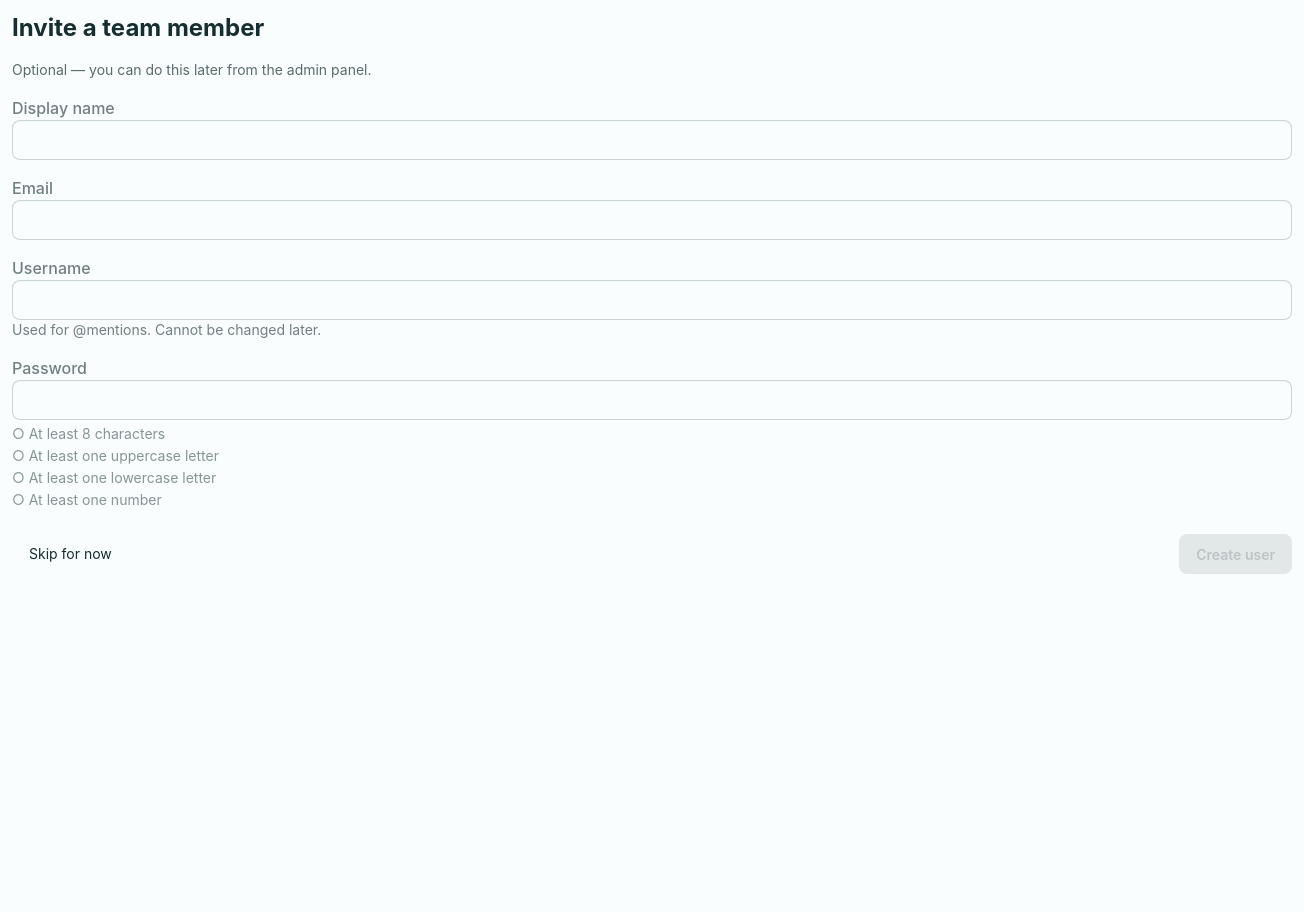
Test: wizard team-member step: username › still reports a duplicate email as before
Type "Demo User" into the field with id "user-name" at (652, 140), box [12,120,1292,160]
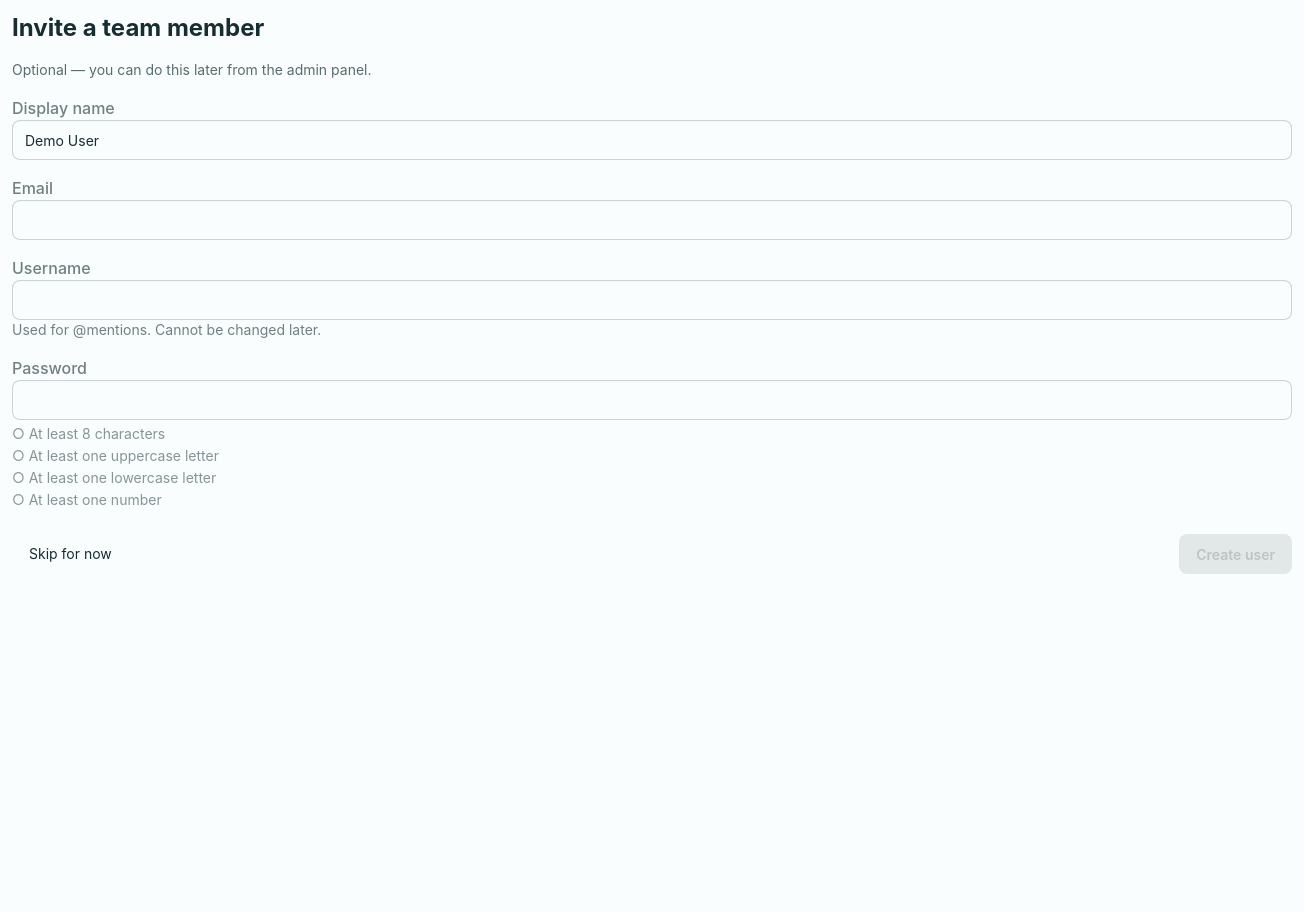
Type "demo@example.com" into the field with id "user-email" at (652, 220), box [12,200,1292,240]
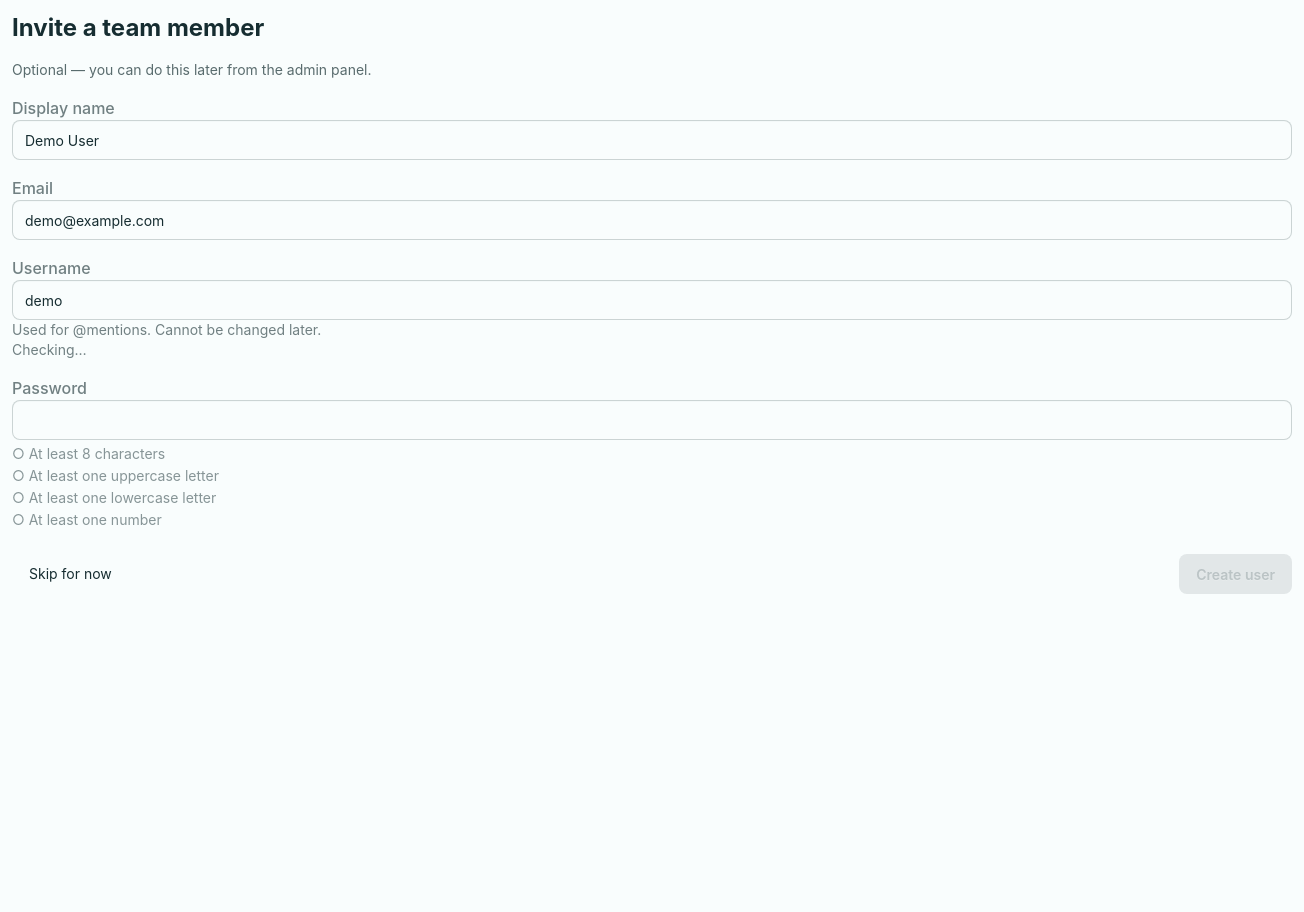
Type "Passw0rd!x" into the password field with id "user-password" at (652, 420), box [12,400,1292,440]
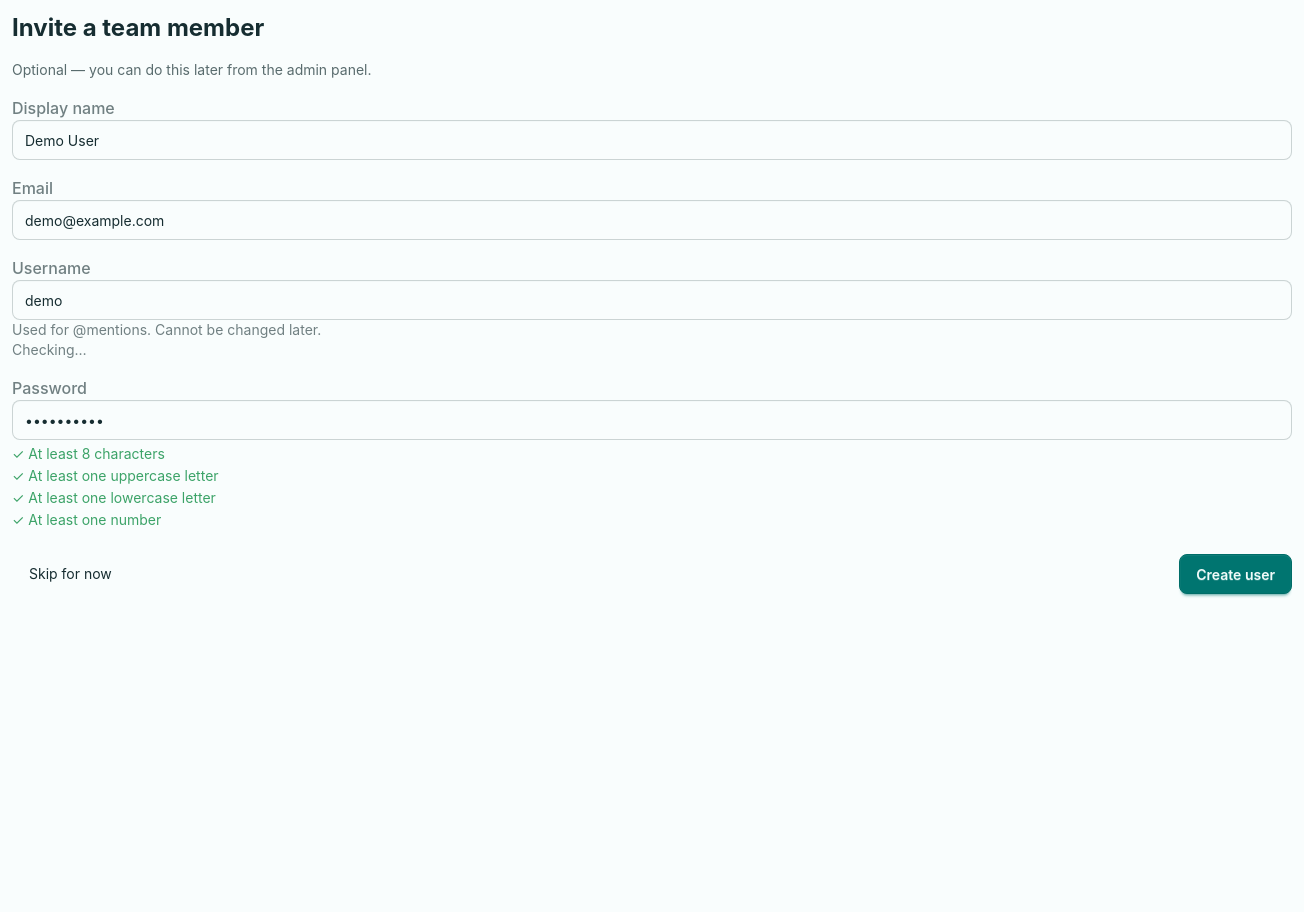
Click the button "Create user" at (1236, 574), box [1179,554,1292,594]
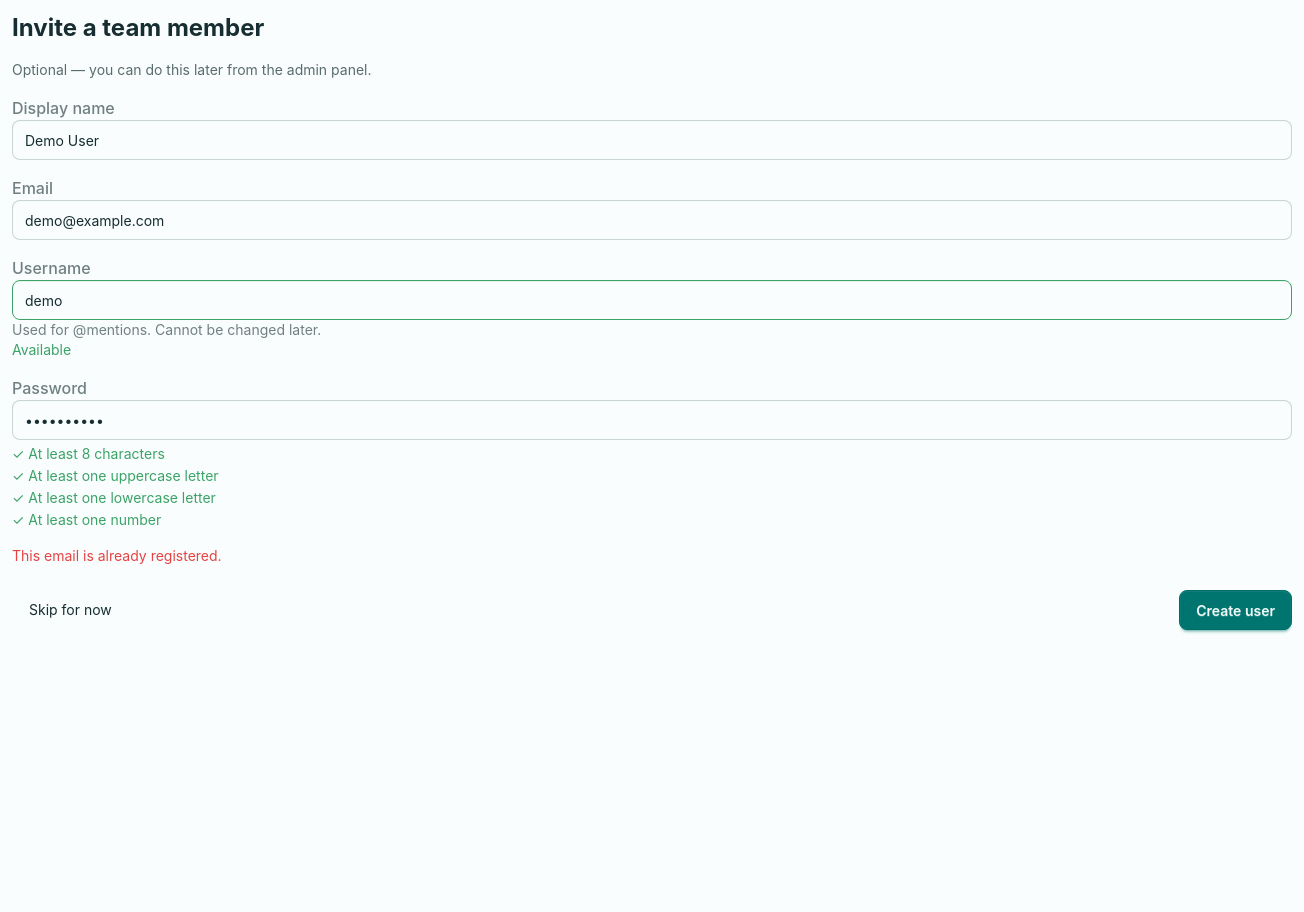
Expected: the text "This email is already registered." is shown, [12,547,222,564]
